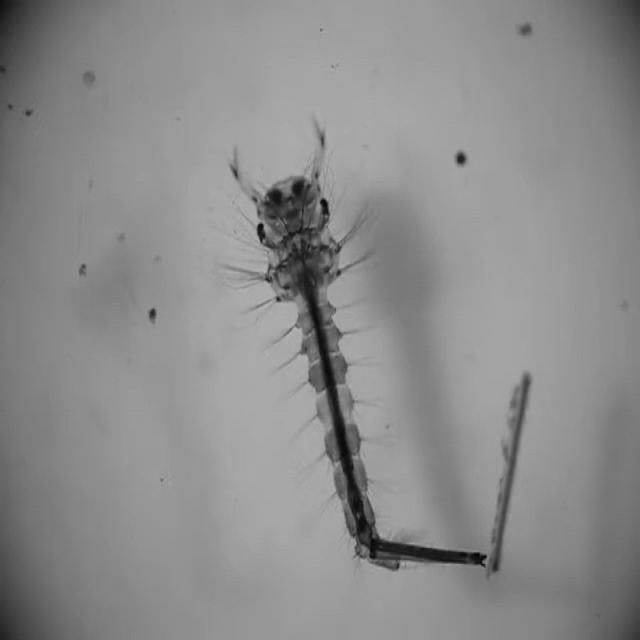larvas: (222, 153, 496, 572)
